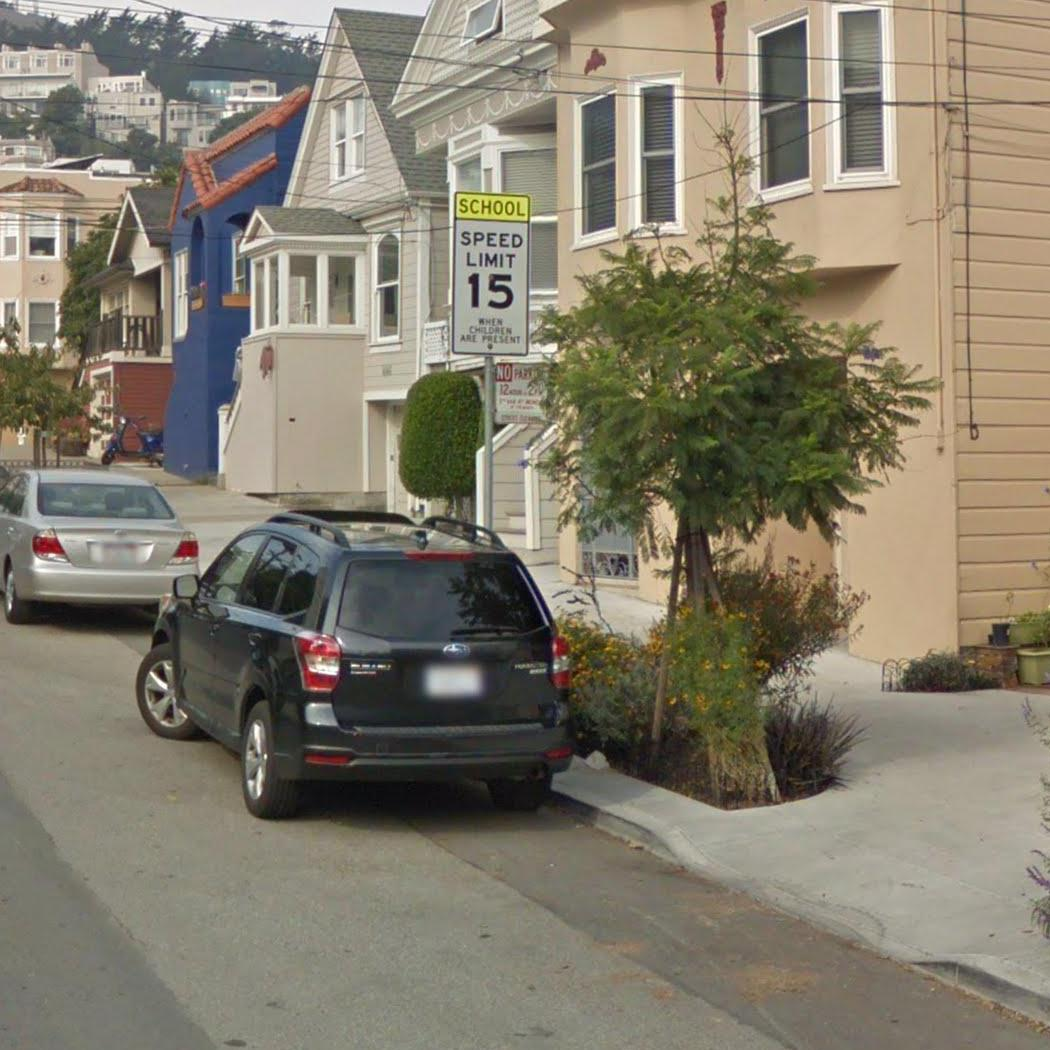No Parking: (492, 358, 554, 426)
